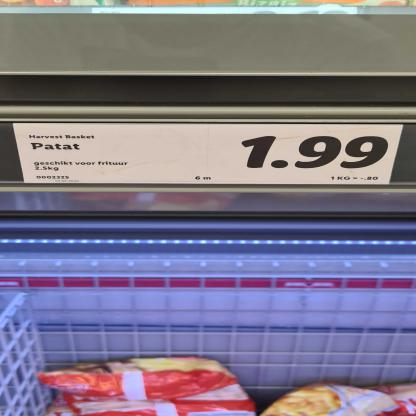prtg: (13, 124, 405, 186)
